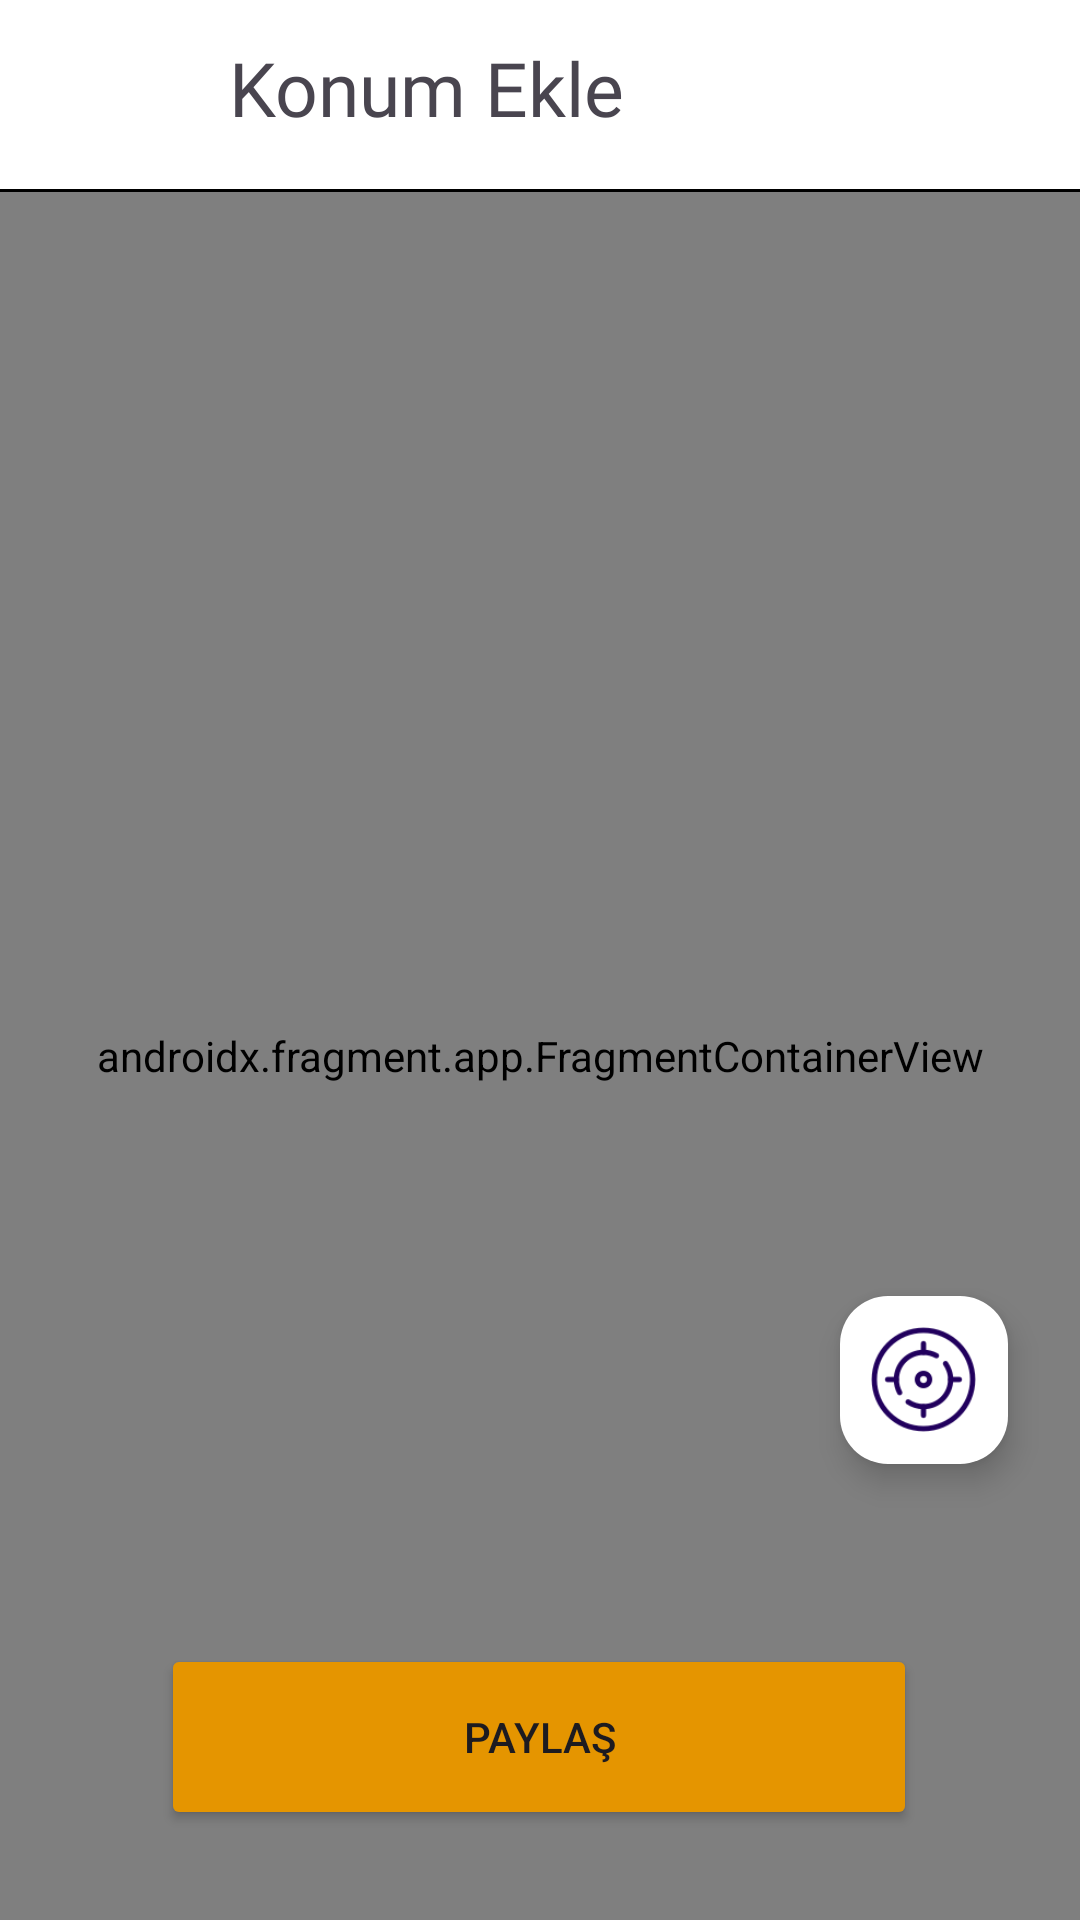

Icons on this 1080x1920 Android screen, each with the point to tap as [x,y]:
Konumuna Git: [924,1380]
